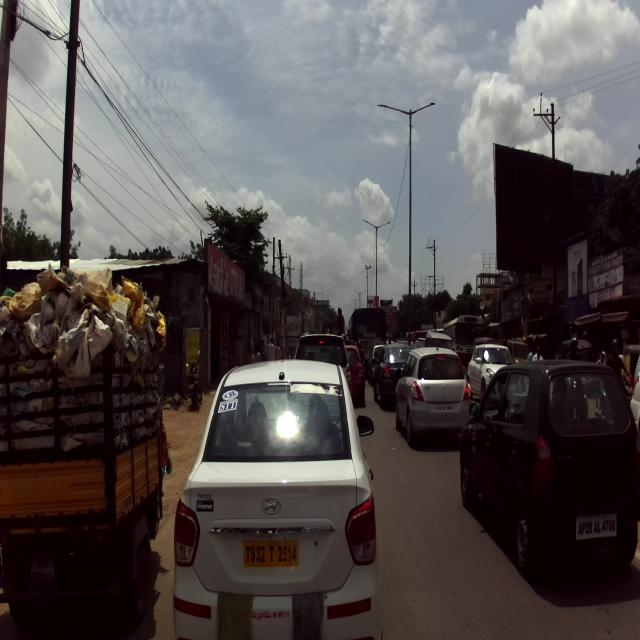Car_Hyundai: (172, 358, 384, 637)
Car_Maruti-Suzuki: (459, 358, 640, 576), (394, 346, 470, 447)
Car_Toyota: (294, 332, 354, 403)
autorickshaw: (0, 260, 173, 629)
